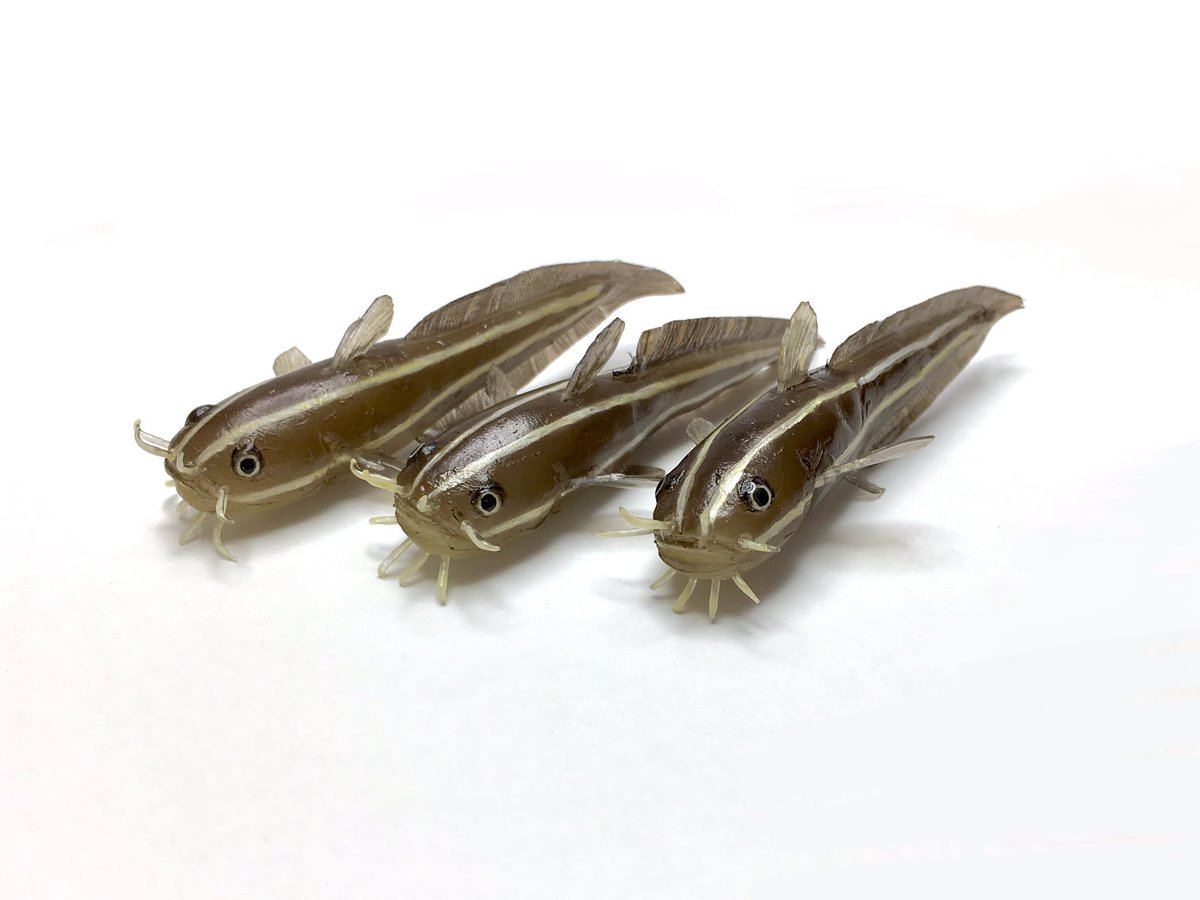gonzui: (646, 266, 1071, 604)
